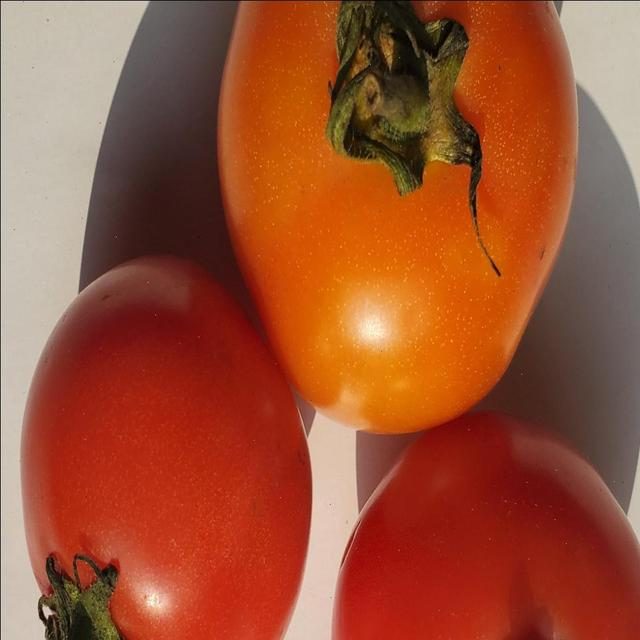Healthy Fruit: (111, 148, 322, 348)
